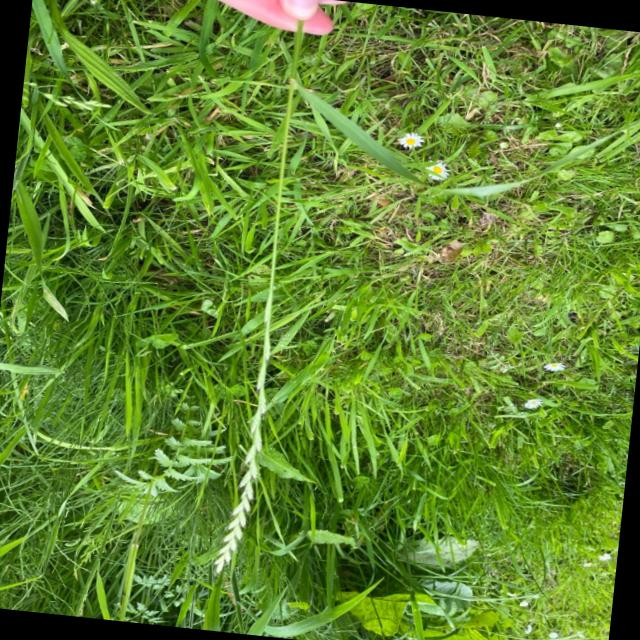Lolium: (201, 0, 317, 574)
